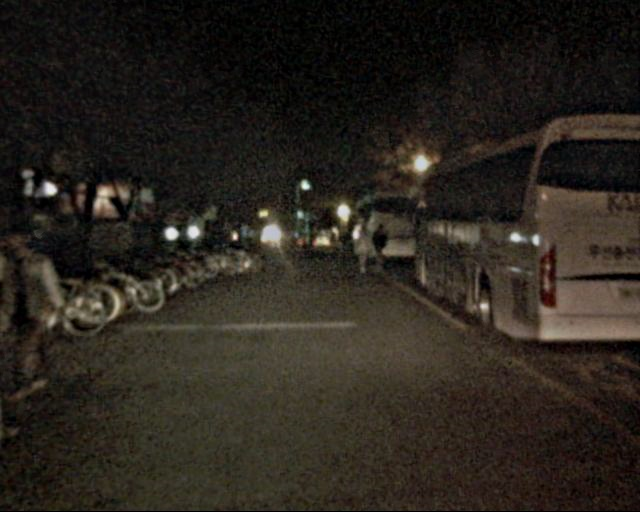person: (351, 224, 373, 278), (369, 224, 390, 276), (336, 223, 352, 262)
